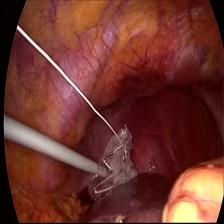Irrigator: (88, 157, 110, 181)
Specimen Bag: (78, 121, 142, 207)
